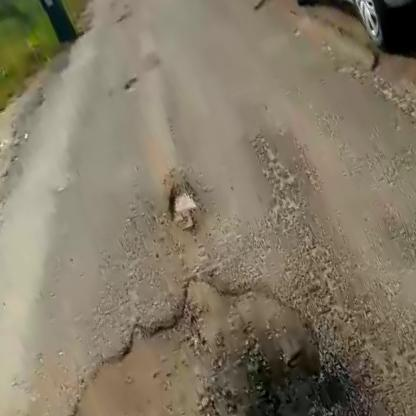pothole: (0, 241, 353, 416), (159, 176, 210, 232)
